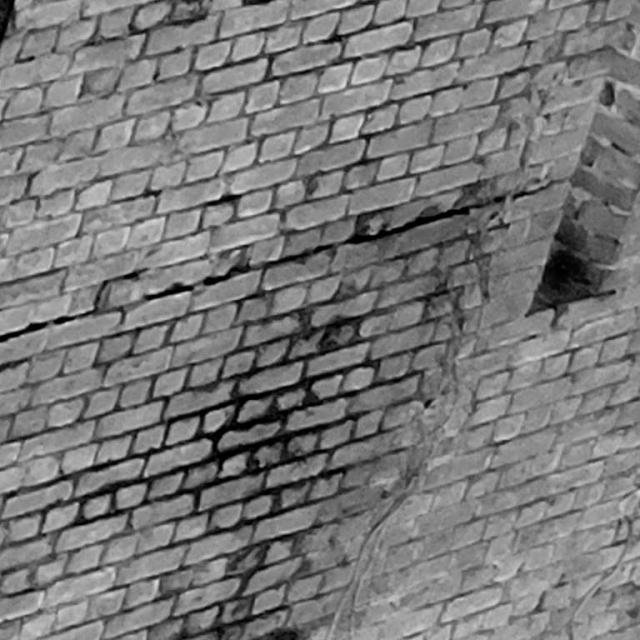crack: (1, 178, 572, 342)
